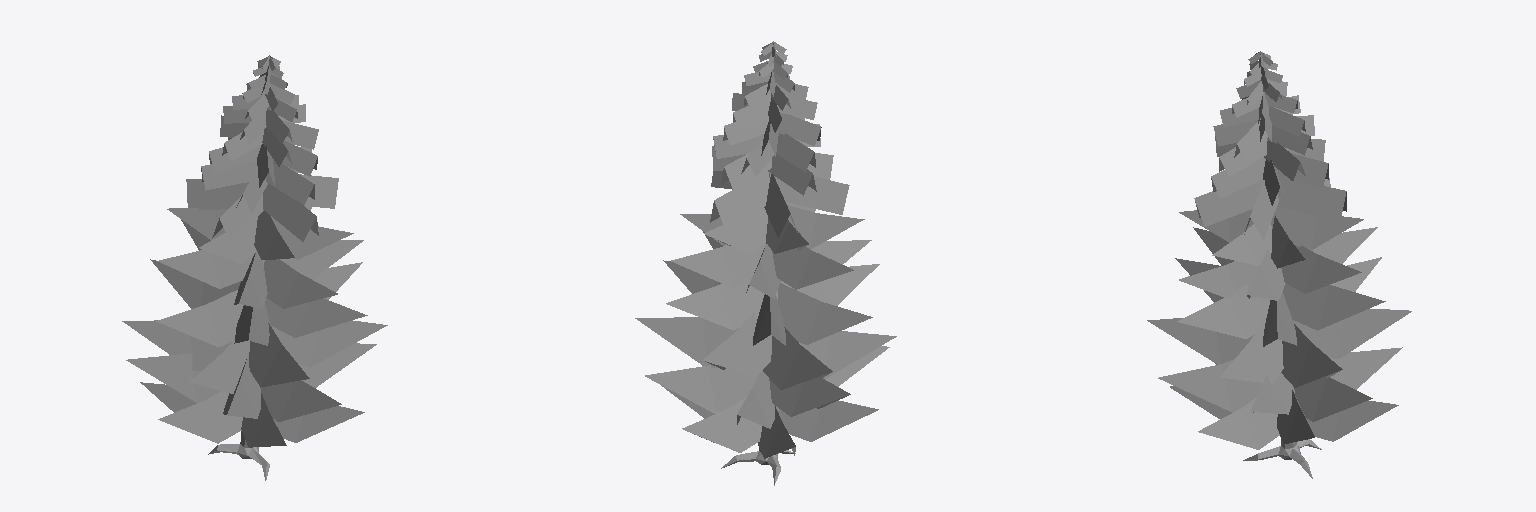
File: spruceTreeobj.obj
3 renders of one model, left to right at view 1: azimuth 30°, elevation 25°; view 2: azimuth 150°, elevation 25°; view 3: azimuth 270°, elevation 25°, orthographic.
Visible parts, largest first — view 1: Spruce; view 2: Spruce; view 3: Spruce.
Part boxes in pixels (left/top/right/bottom): Spruce: left=122, top=55, right=387, bottom=480; Spruce: left=635, top=41, right=896, bottom=485; Spruce: left=1147, top=51, right=1411, bottom=478.
Bounding box in the file's own units: 6.15 × 11.51 × 6.63.